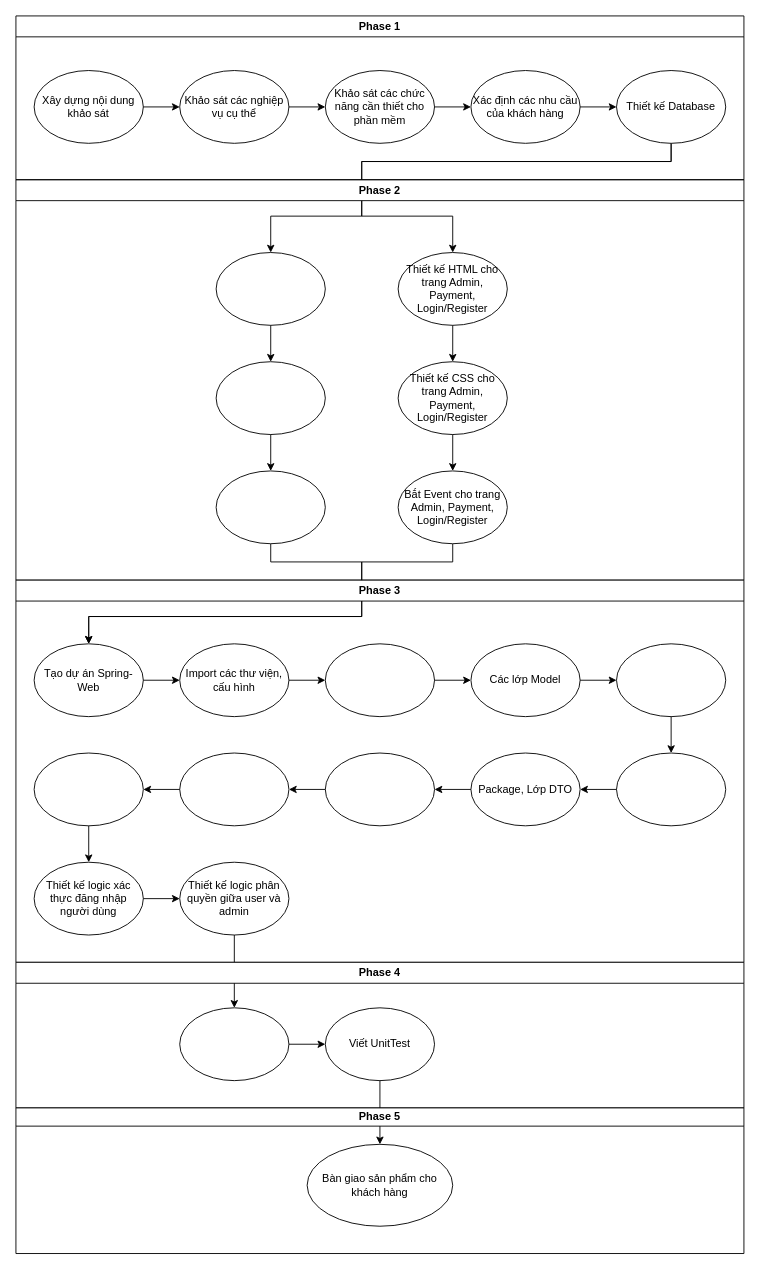
Image size: 760x1269. Some labels were removed from this diagram. The centre of each missing label's shape, as x and y in pixels:
"Bắt Event cho trang Product, Cart, Home, ProductDetail" goes at point (270, 507).
"Các lớp Controller" goes at point (379, 680).
"Các thư mục View, Resource Static" goes at point (671, 680).
"Import thư viện Spring Security và các class configSecurity" goes at point (88, 789).
"Package, Lớp Config" goes at point (671, 789).
"Package, Lớp DAO" goes at point (379, 789).
"Package, Lớp Service" goes at point (234, 789).
"Thiết kế CSS cho trang Product, Cart, Home, ProductDetail" goes at point (270, 398).
"Thiết kế HTML cho trang Product, Cart, Home, ProductDetail" goes at point (270, 288).
"Viết Testcase" goes at point (234, 1044).
